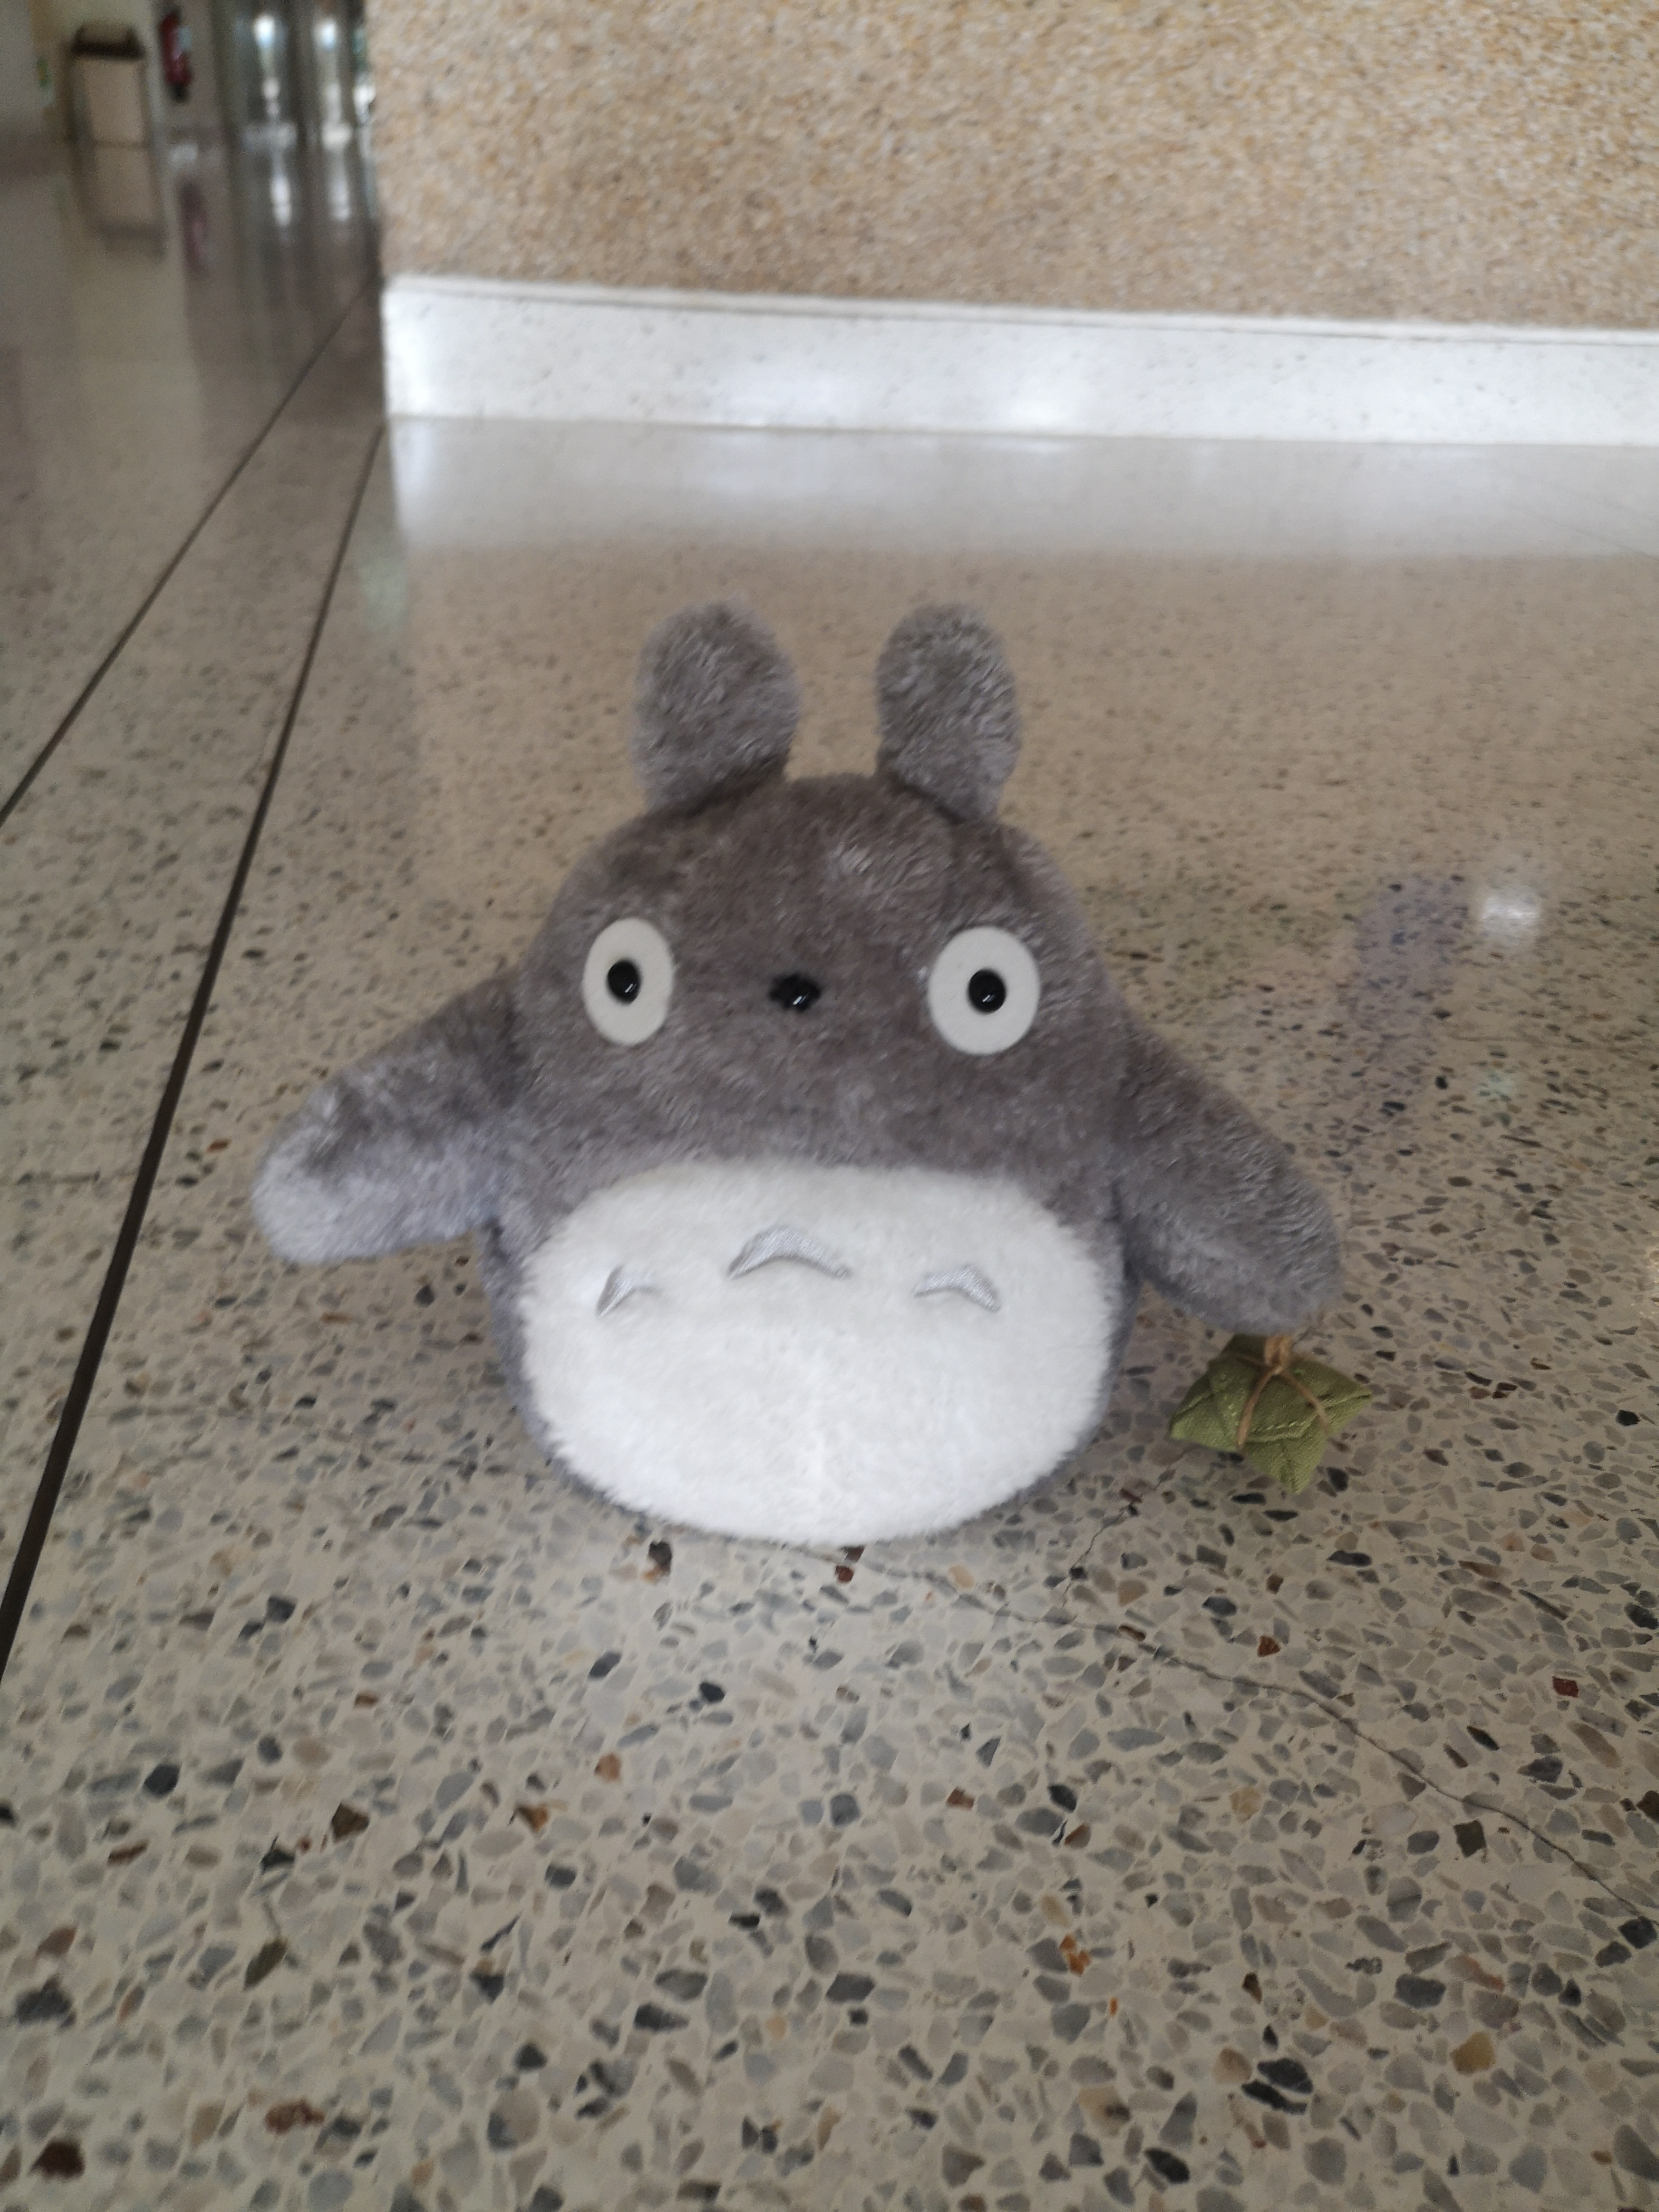totoro: (239, 592, 1384, 1575)
